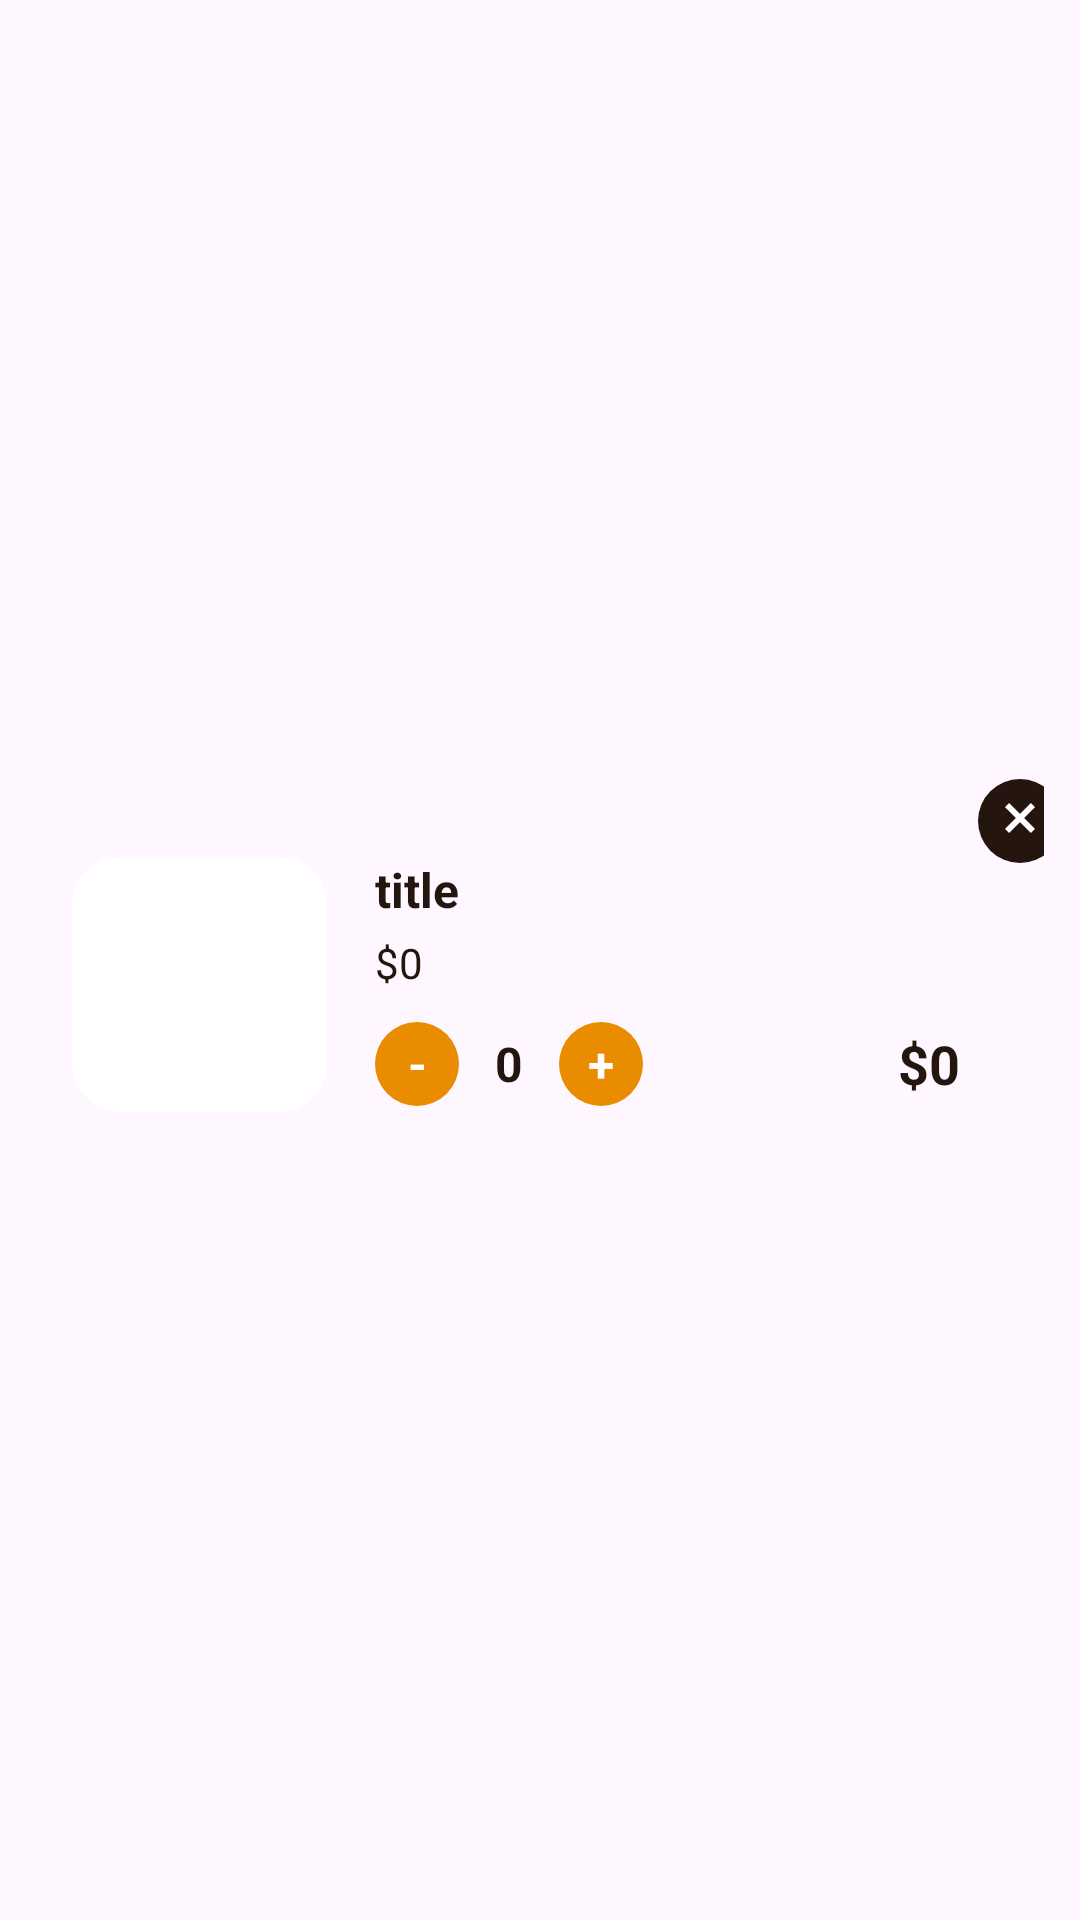

Icon click points for this 1080px×1920px phone screenshot, format point (x, y):
close circle: point (1011, 821)
